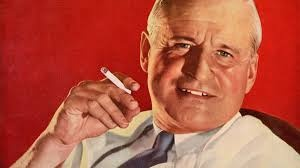sigaretta: (100, 65, 133, 97)
